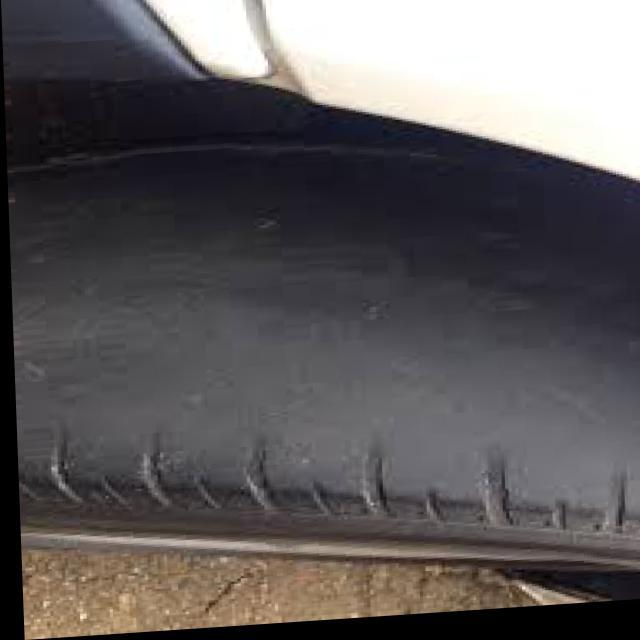Flat spots: (21, 185, 636, 438)
